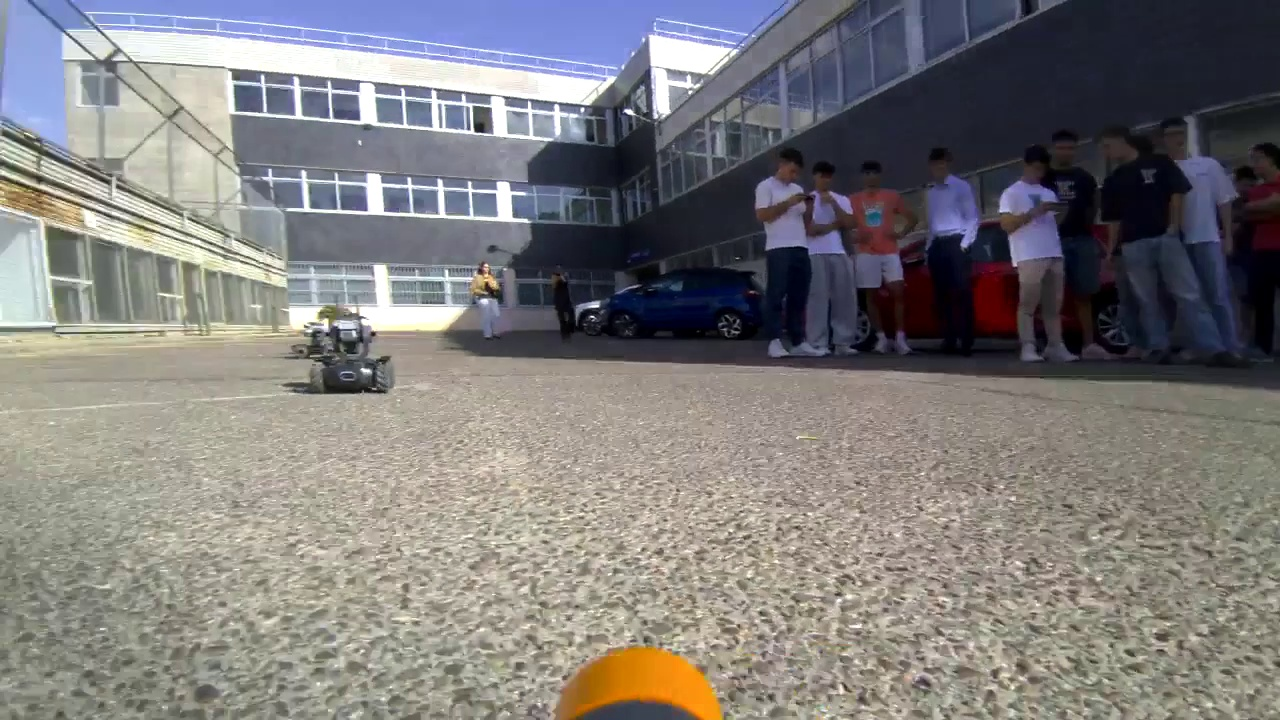robot: (311, 311, 396, 399), (289, 321, 331, 358)
